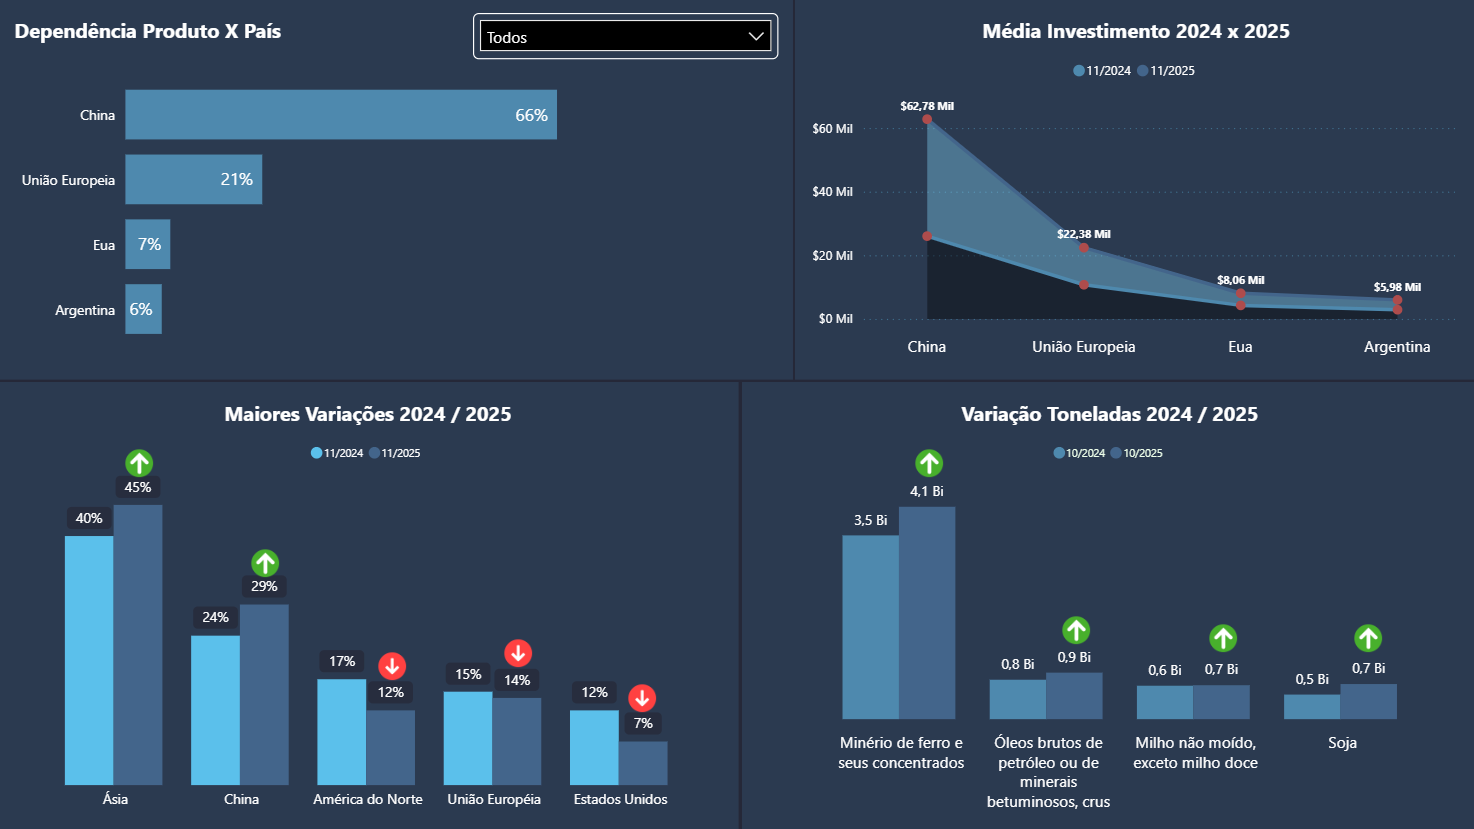

Layout of this report page (visuals, bound fields, positions):
{"tool":"powerbi","page":{"name":"Página 2","canvas":[1280,720],"ordinal":1},"visuals":[{"type":"lineClusteredColumnComboChart","title":"Maiores Variações  2024 / 2025","fields":{"Category":["Paises_Valores.País"],"Y":["Paises_Valores.Perc_11_24","Paises_Valores.Perc_11_25"]},"box":[0,331.2,641.2,388.8],"z":0},{"type":"image","box":[314.4,550,54.4,54.4],"z":1000},{"type":"image","box":[95.6,374.4,54.4,54.4],"z":2000},{"type":"image","box":[204.4,461.1,54.4,54.4],"z":3000},{"type":"image","box":[531.1,577.8,54.4,54.4],"z":4000},{"type":"image","box":[423.3,538.9,54.4,54.4],"z":5000},{"type":"lineClusteredColumnComboChart","title":"Variação Toneladas 2024  / 2025","fields":{"Category":["Produtos.PRODUTO"],"Y":["Sum(Produtos.TON  10/24)","Sum(Produtos.TON  10/25)"]},"box":[643.8,331.2,636.2,388.8],"z":6000},{"type":"image","box":[778.6,374.3,54.3,54.3],"z":7000},{"type":"image","box":[905.7,518.6,54.3,54.3],"z":8000},{"type":"image","box":[1032.9,525.7,54.3,54.3],"z":9000},{"type":"image","box":[1158.6,525.7,54.3,54.3],"z":10000},{"type":"barChart","title":"Dependência Produto X País","fields":{"Y":["Principais_paises.Percentual Produto por País"],"Category":["Principais_paises.País"]},"box":[0,0,687.5,328.8],"z":11000},{"type":"slicer","fields":{"Values":["Principais_paises.Produtos"]},"box":[411.2,12.5,263.8,40],"z":12000},{"type":"stackedAreaChart","title":"Média Investimento 2024 x 2025","fields":{"Category":["Principais_paises.País"],"Y":["Sum(Principais_paises.Média US$ Milhões Igual Mês do Ano Anterior)","Sum(Principais_paises.Média US$ Milhões Mês Atual)"]},"box":[690,0,590,328.8],"z":13000}]}

Visuals, with their boxes in screenshot pixels (x1, y1, x2, y2), scaled from the page's 1280x720 canvas onto the 1474x829 screenshot:
"Maiores Variações  2024 / 2025" lineClusteredColumnComboChart: 0, 381, 738, 828
image: 362, 633, 425, 696
image: 110, 431, 173, 494
image: 235, 531, 298, 594
image: 612, 665, 674, 728
image: 487, 620, 550, 683
"Variação Toneladas 2024  / 2025" lineClusteredColumnComboChart: 741, 381, 1473, 828
image: 897, 431, 959, 493
image: 1043, 597, 1106, 660
image: 1189, 605, 1252, 668
image: 1334, 605, 1397, 668
"Dependência Produto X País" barChart: 0, 0, 792, 379
slicer - Principais_paises.Produtos: 474, 14, 777, 60
"Média Investimento 2024 x 2025" stackedAreaChart: 795, 0, 1473, 379
